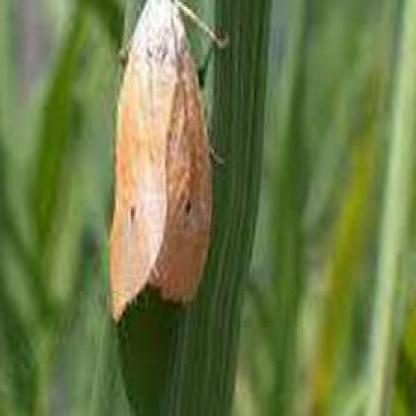stem-borer: (107, 0, 231, 334)
